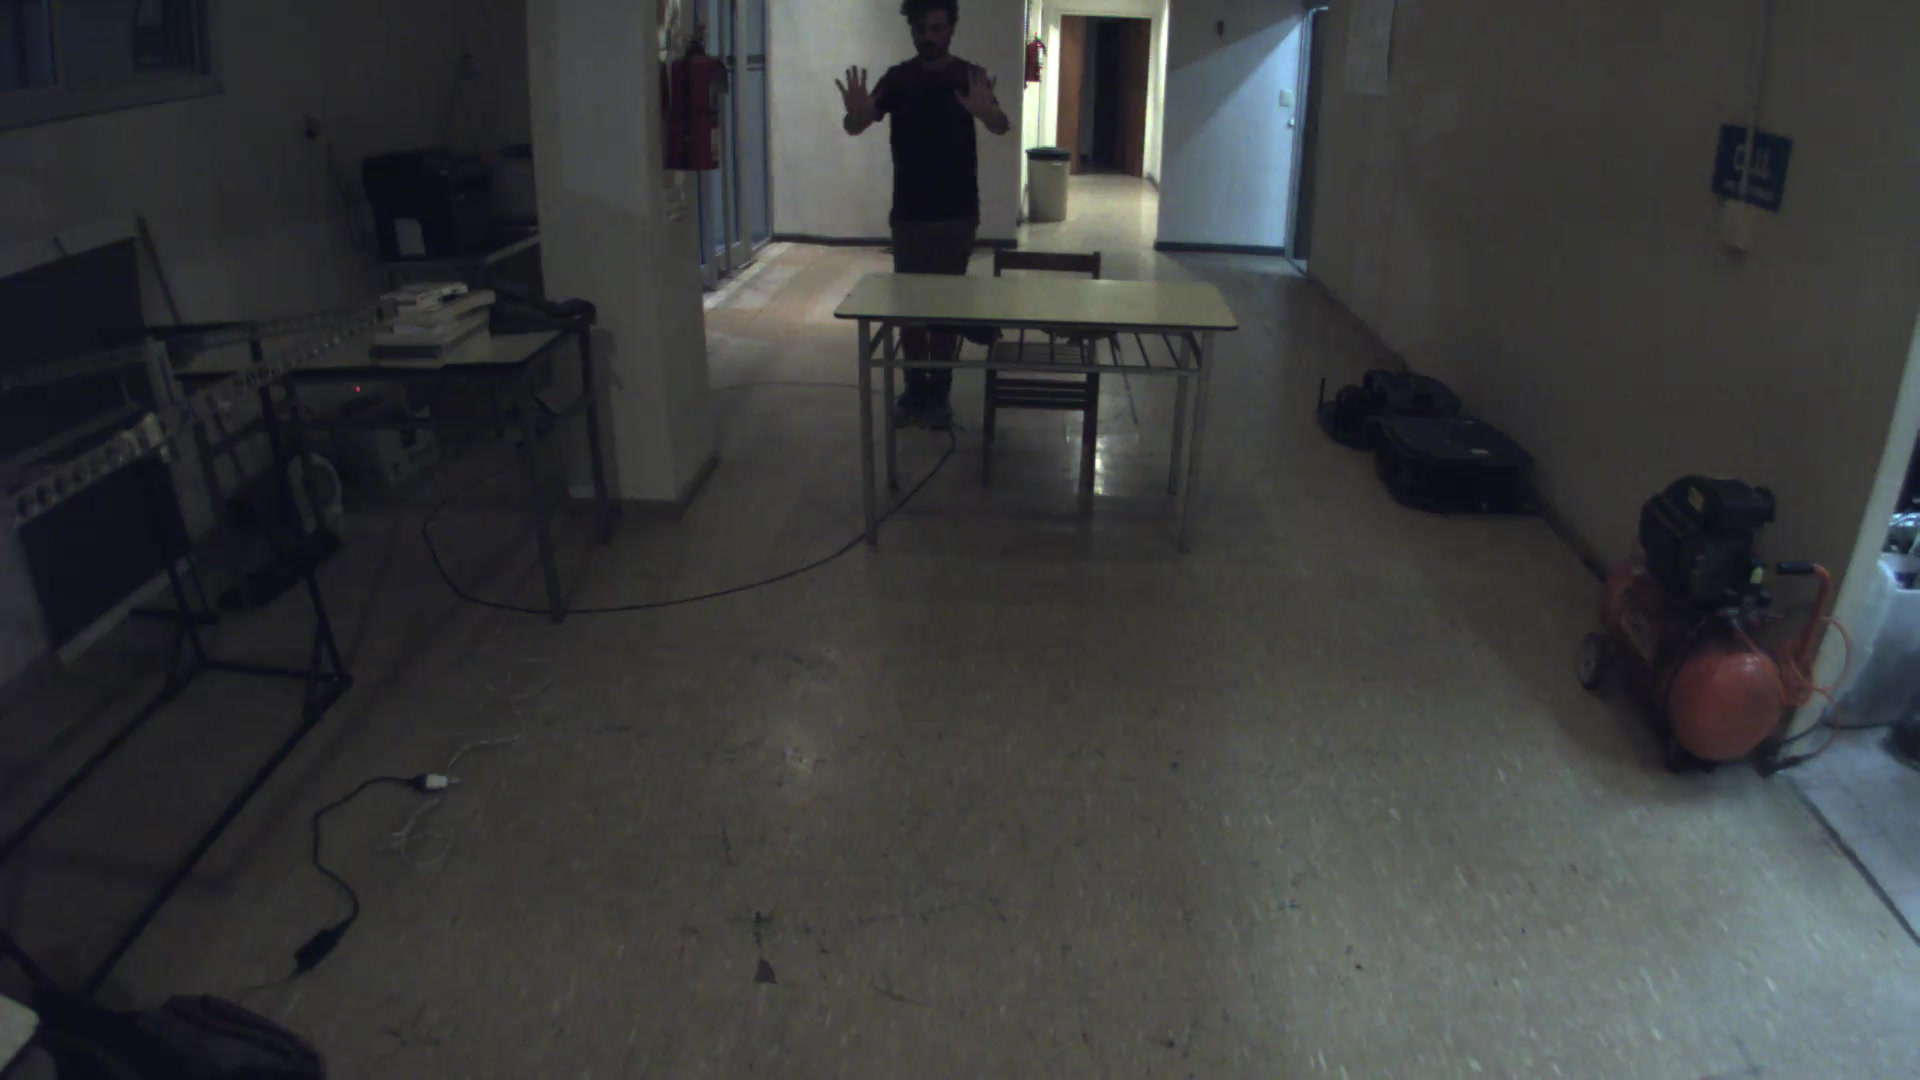hand: (831, 55, 891, 137), (951, 62, 1002, 125)
